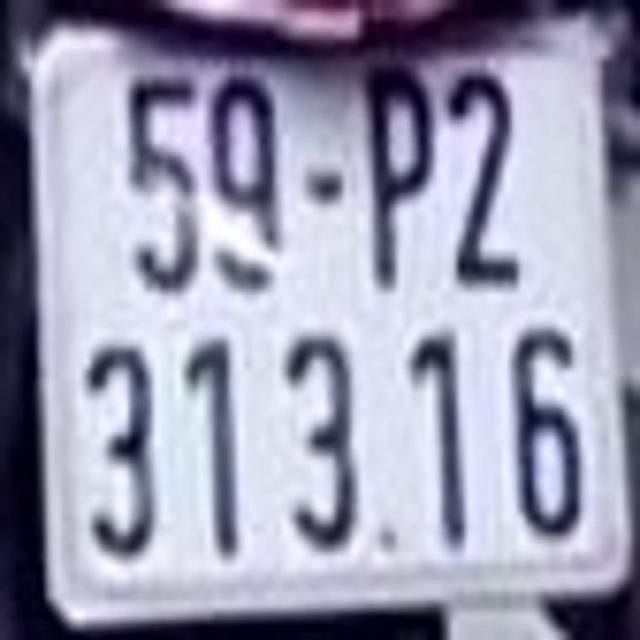1: (410, 330, 475, 550), (184, 339, 248, 558)
2: (448, 67, 530, 290)
3: (283, 332, 360, 551), (82, 339, 158, 560)
5: (126, 76, 202, 292)
6: (512, 324, 586, 540)
9: (210, 77, 280, 293)
P: (362, 65, 435, 293)
